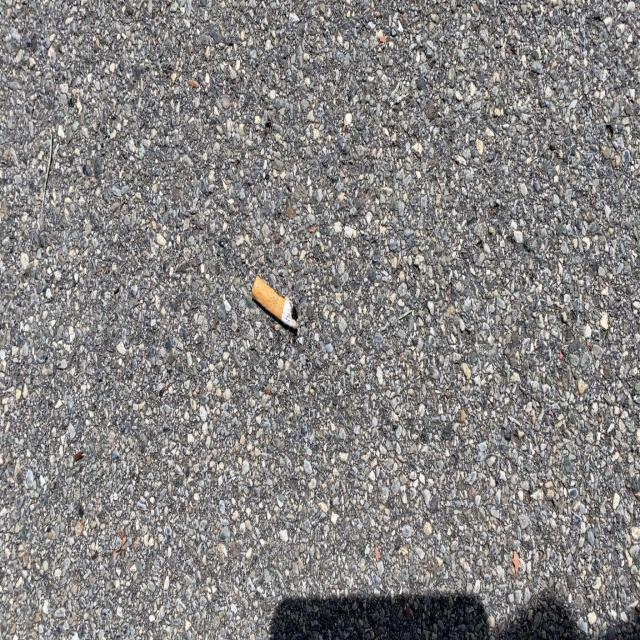other waste: (251, 276, 298, 332)
